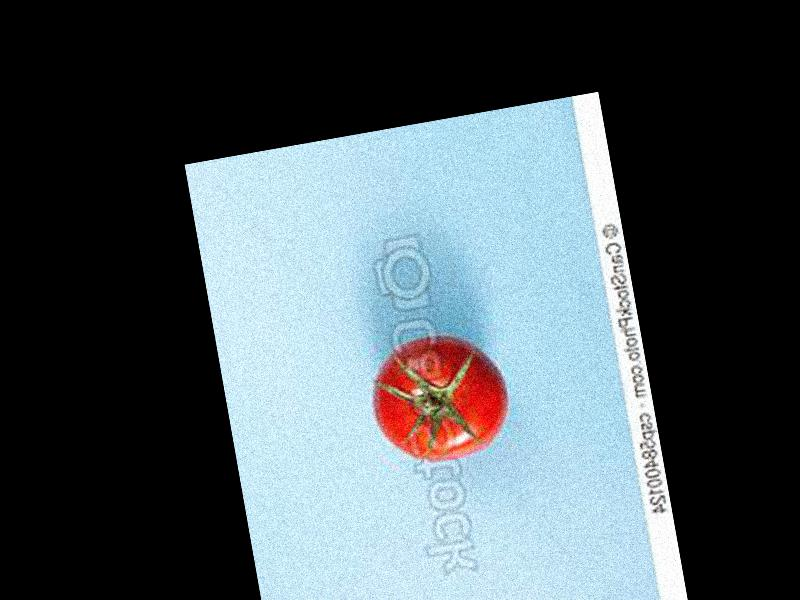Tomato: (364, 327, 518, 469)
